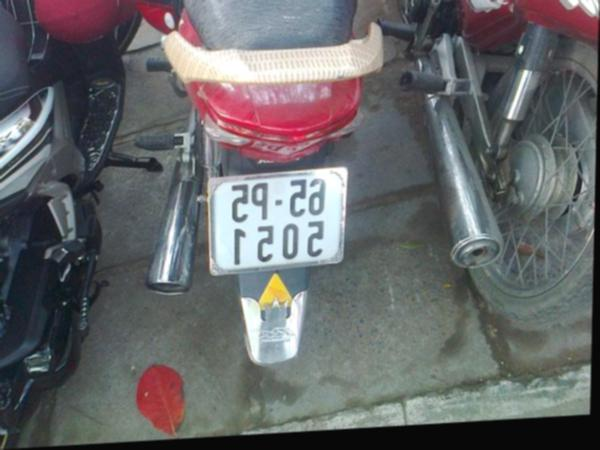License_Plate: (214, 168, 342, 274)
